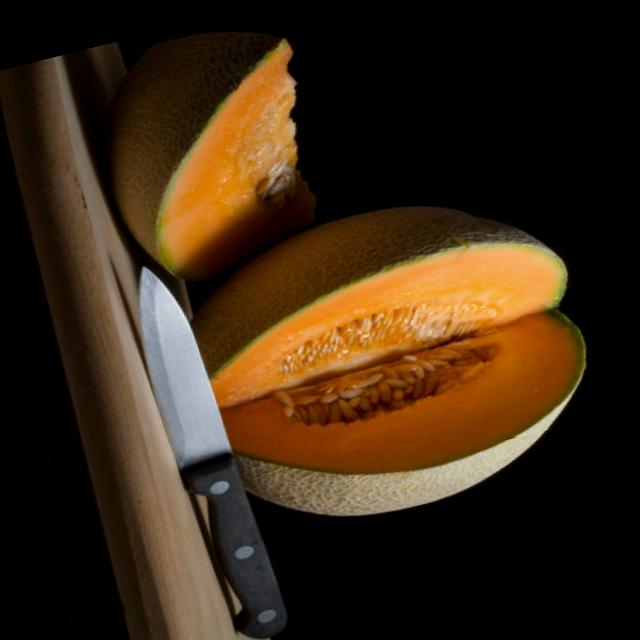cantaloupe: (186, 168, 615, 546), (81, 18, 338, 292)
